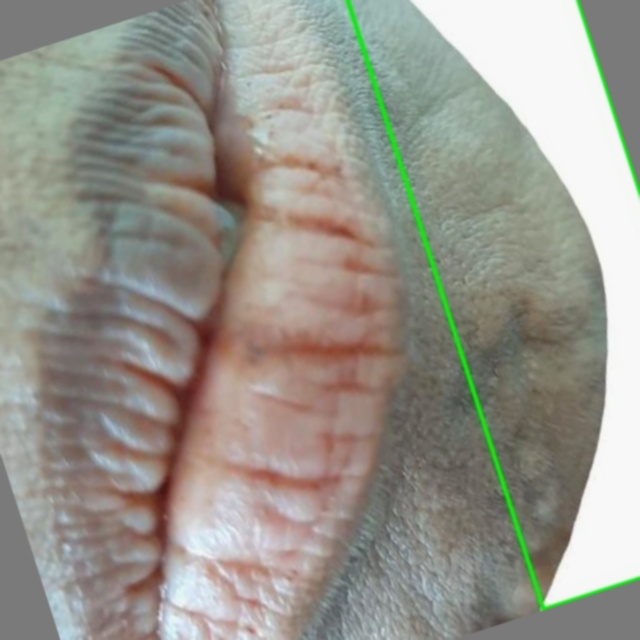Eczema: (347, 0, 639, 609)
